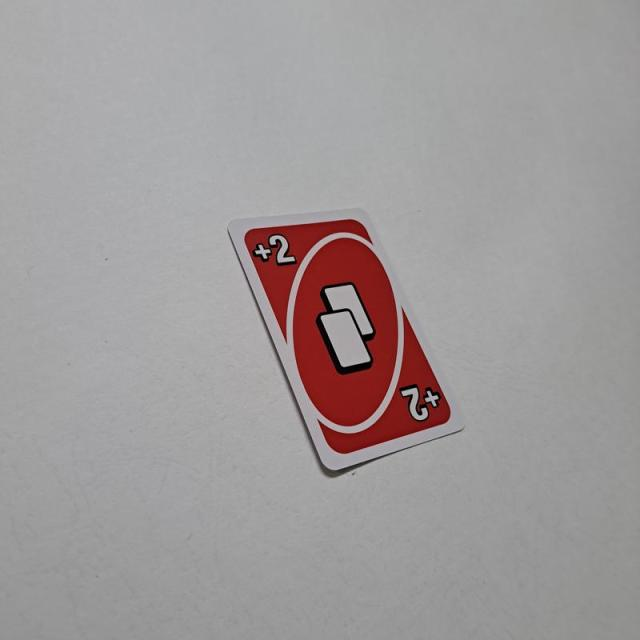Draw_Two: (251, 232, 298, 270)
Red_Card: (240, 215, 454, 457)
